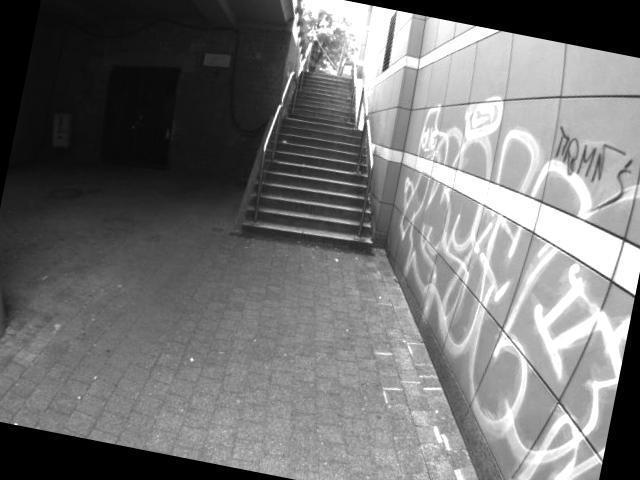Escaleras: (237, 109, 393, 255), (281, 63, 366, 126)
